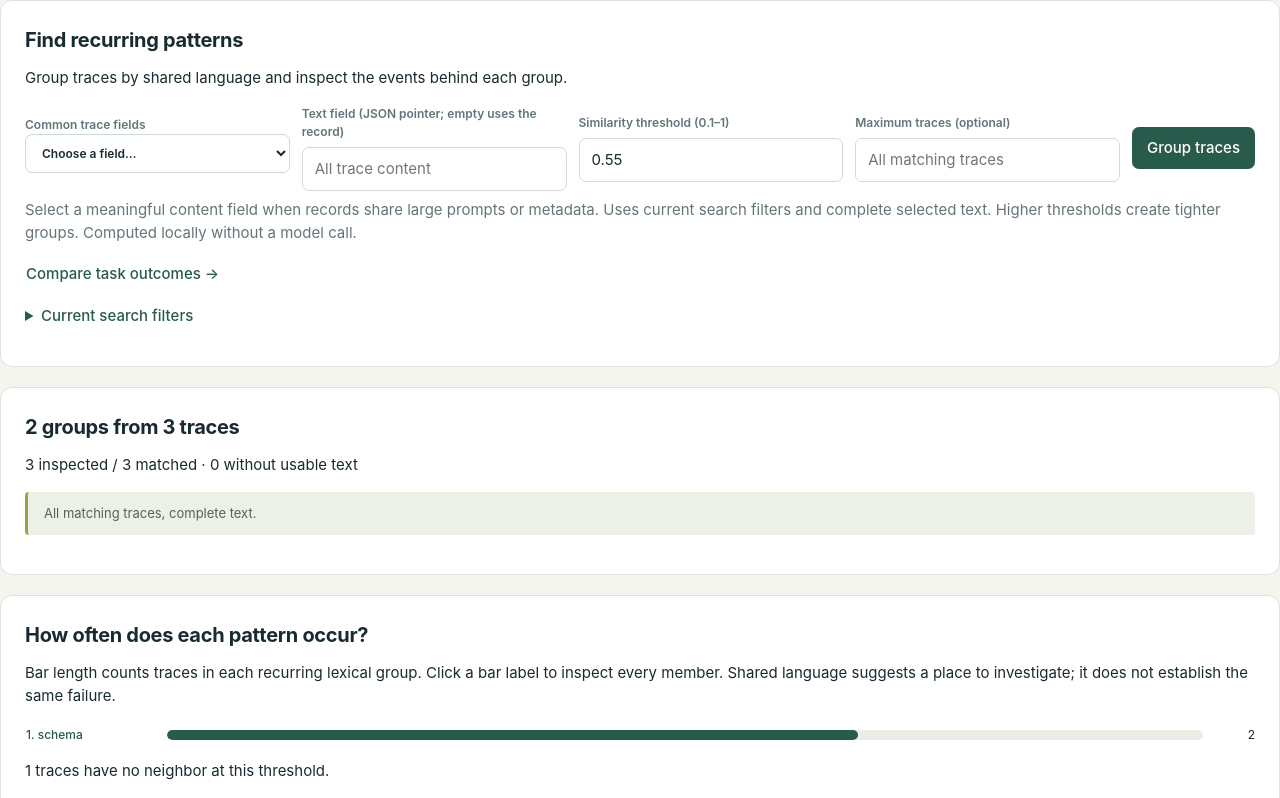
Test: trace exploration › Given a missing selected field, When grouping, Then explains how to recover and respects an explicit maximum
The width and height of the screenshot is (1280, 798).
Check: the heading "2 groups from 3 traces" is shown, box left=25, top=415, right=240, bottom=439
Type "/input" into the field labelled "Text field (JSON pointer; empty uses the record)" at (434, 169), box left=302, top=146, right=567, bottom=191
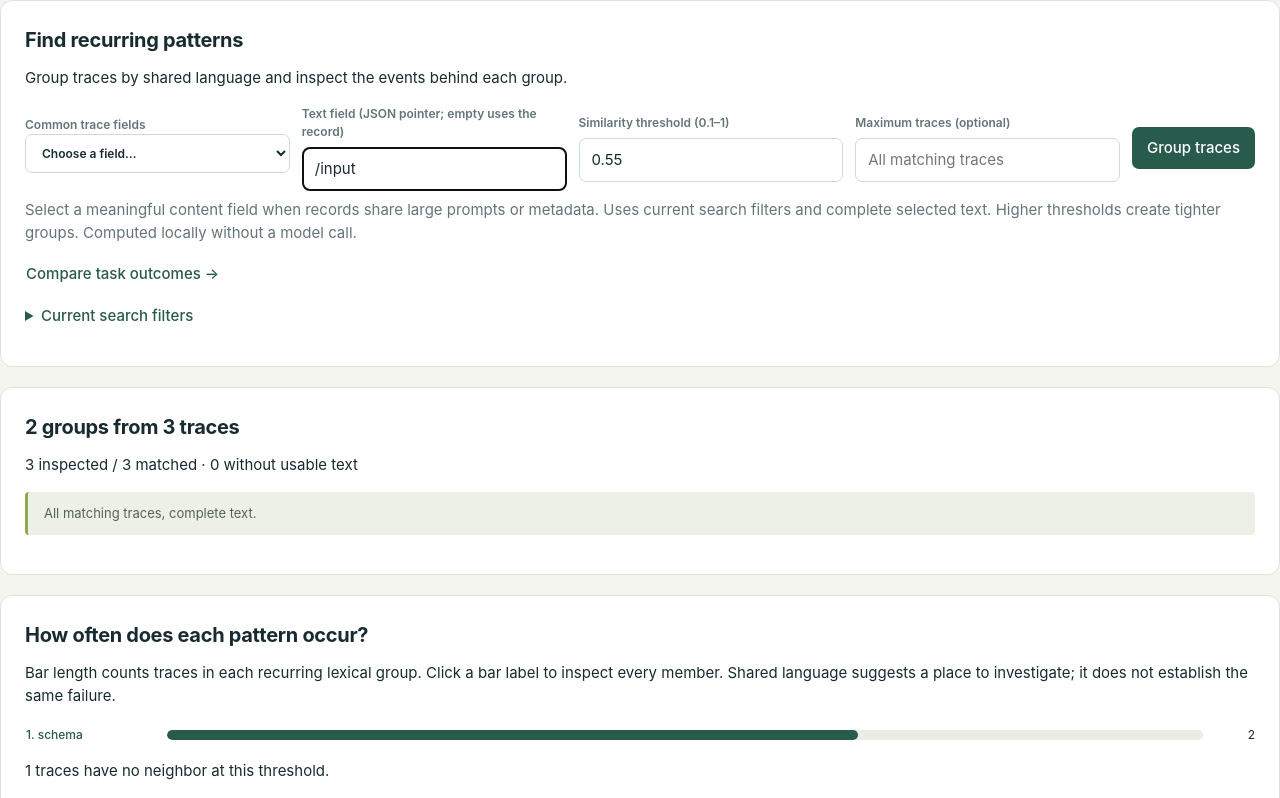
Type "300" into the number field labelled "Maximum traces (optional)" at (988, 160), box left=855, top=138, right=1120, bottom=182
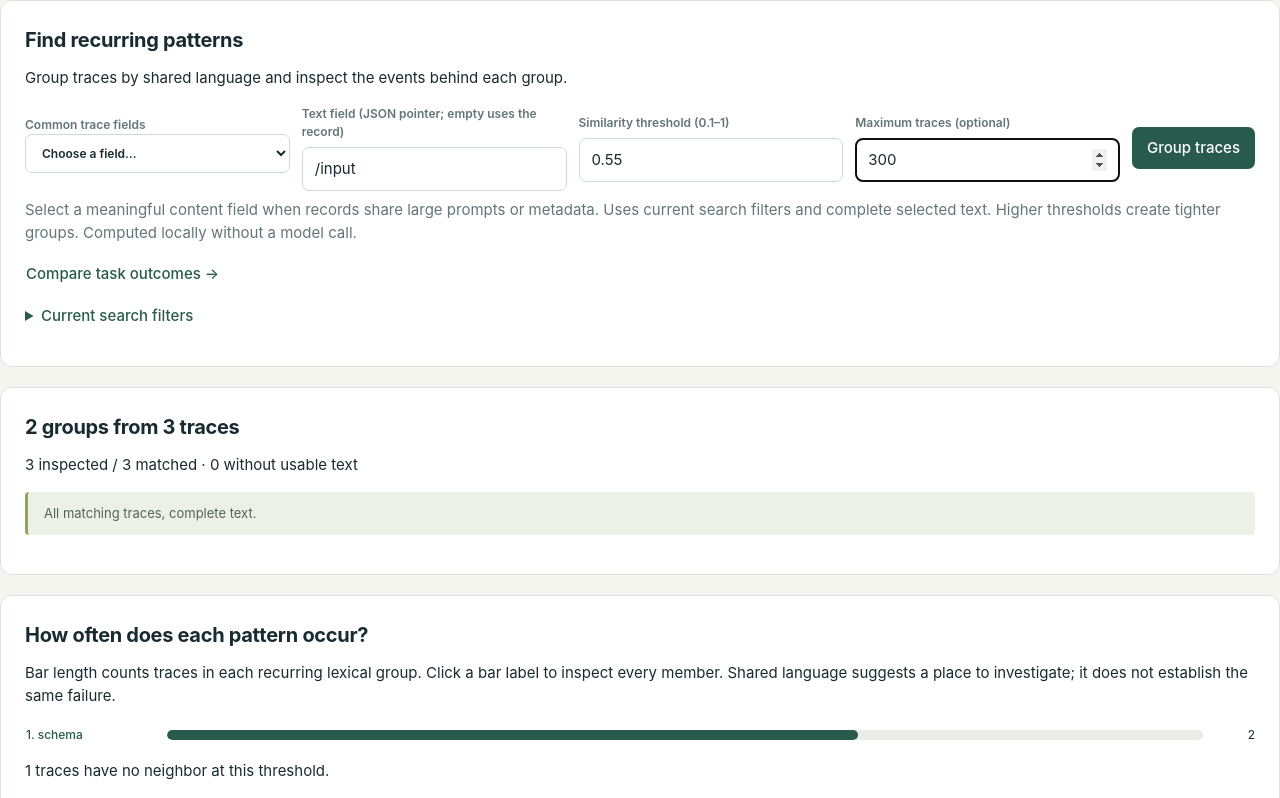
Click the button "Group traces" at (1194, 148), box left=1132, top=126, right=1255, bottom=169
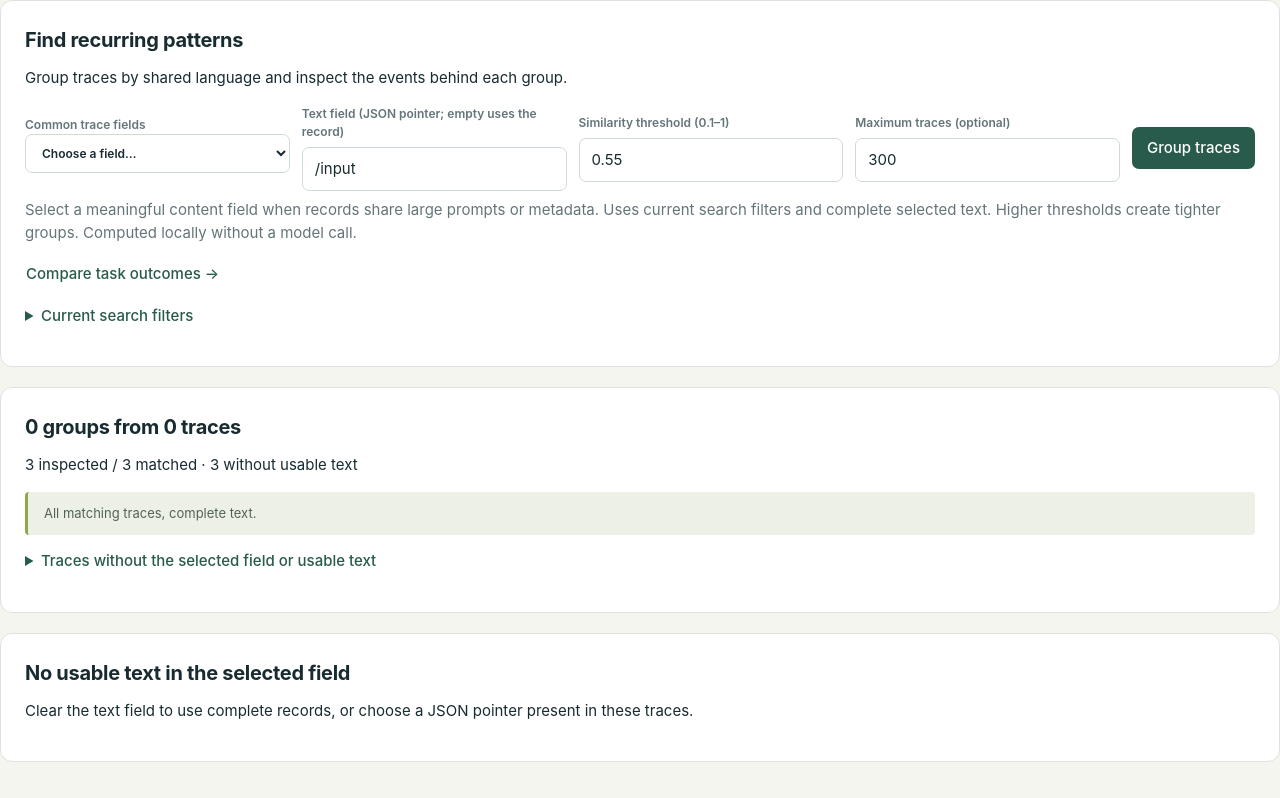
Check: the heading "No usable text in the selected field" is shown, box left=25, top=660, right=350, bottom=684
